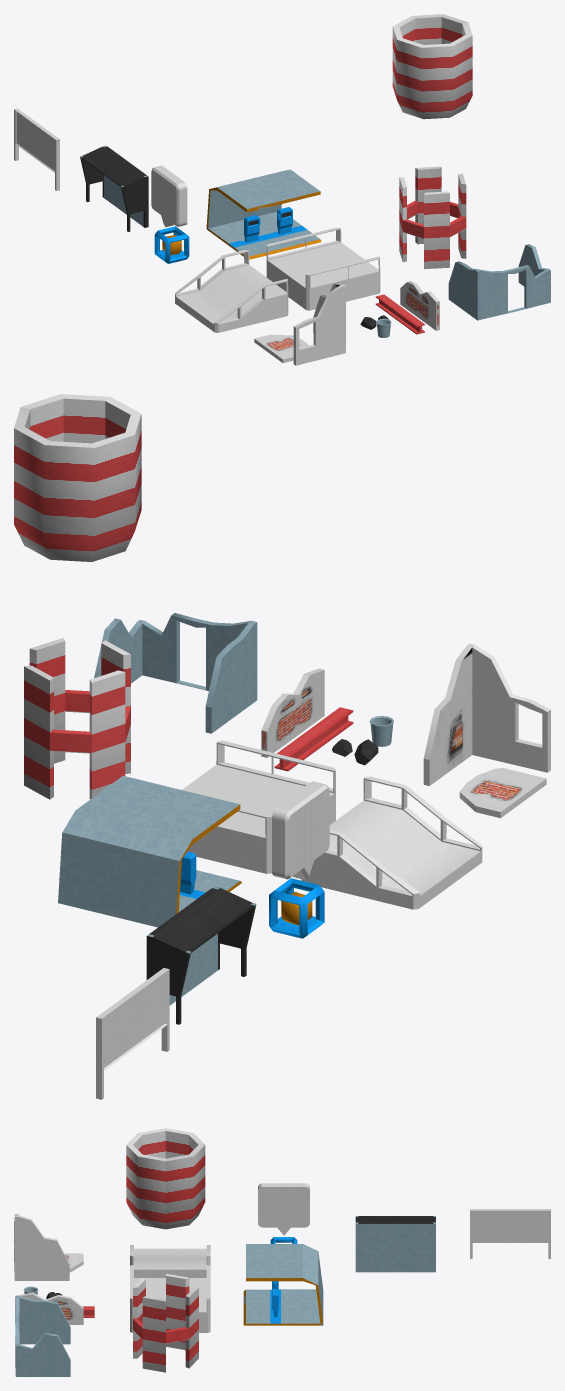
The model's file is Urbano.FBX.
3 renders of one model, top to bottom at view 1: azimuth 30°, elevation 25°; view 2: azimuth 150°, elevation 25°; view 3: azimuth 270°, elevation 25°, orthographic. The views are drawn at different scales.
Parts seen in each view (by area): view 1: cuba, gasolinera, subidapuente, subidapuente001, patascuba, Wall002, marquesina, Wall001, cartel, Rectangle002, Wall004, powerup (+2 smaller); view 2: cuba, gasolinera, subidapuente, patascuba, Wall001, Wall002, subidapuente001, marquesina, cartel, Rectangle002, Wall004, Wall003 (+2 smaller); view 3: cuba, gasolinera, patascuba, marquesina, Wall002, cartel, Wall001, Rectangle002, subidapuente, subidapuente001, Wall004.
Part boxes in pixels (bbox=[...]): cuba: bbox=[392, 14, 472, 119]; gasolinera: bbox=[206, 169, 321, 259]; subidapuente: bbox=[175, 250, 288, 332]; subidapuente001: bbox=[266, 227, 380, 310]; patascuba: bbox=[399, 166, 466, 269]; Wall002: bbox=[448, 244, 550, 320]; marquesina: bbox=[80, 145, 148, 231]; Wall001: bbox=[293, 283, 345, 365]; cartel: bbox=[14, 108, 59, 190]; Rectangle002: bbox=[151, 165, 187, 227]; Wall004: bbox=[400, 281, 439, 330]; powerup: bbox=[154, 226, 189, 263]; cuba: bbox=[14, 394, 141, 561]; gasolinera: bbox=[58, 775, 241, 927]; subidapuente: bbox=[301, 776, 482, 909]; patascuba: bbox=[24, 638, 130, 799]; Wall001: bbox=[423, 643, 550, 785]; Wall002: bbox=[94, 613, 257, 733]; subidapuente001: bbox=[182, 740, 335, 873]; marquesina: bbox=[146, 886, 256, 1024]; cartel: bbox=[96, 968, 169, 1099]; Rectangle002: bbox=[272, 781, 329, 880]; Wall004: bbox=[261, 668, 324, 757]; Wall003: bbox=[459, 768, 546, 818]; cuba: bbox=[126, 1128, 205, 1229]; gasolinera: bbox=[243, 1244, 323, 1325]; patascuba: bbox=[133, 1273, 198, 1372]; marquesina: bbox=[355, 1216, 435, 1272]; Wall002: bbox=[15, 1296, 70, 1376]; cartel: bbox=[470, 1209, 550, 1258]; Wall001: bbox=[14, 1214, 69, 1280]; Rectangle002: bbox=[258, 1183, 309, 1235]; subidapuente: bbox=[130, 1245, 210, 1277]; subidapuente001: bbox=[130, 1265, 210, 1332]; Wall004: bbox=[15, 1292, 83, 1324].
Bounding box in the file's own units: 375 × 301 × 664.
1 material, 1 textured.
